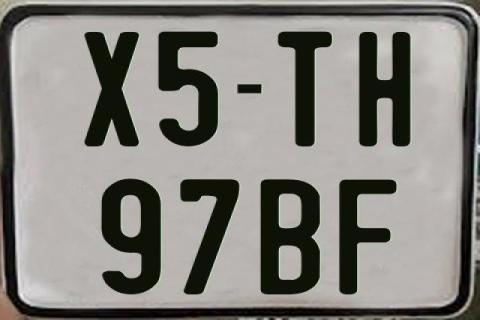0: (158, 29, 224, 150), (100, 178, 167, 296), (179, 179, 240, 295)
B: (259, 178, 323, 294)
F: (336, 178, 399, 298)
H: (357, 31, 411, 148)
T: (278, 29, 332, 150)
X: (82, 30, 137, 144)
